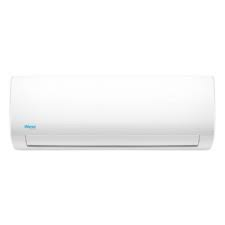ac: (6, 71, 220, 155)
